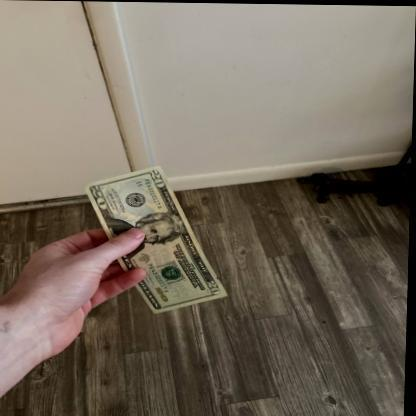twenty-front: (82, 165, 232, 314)
